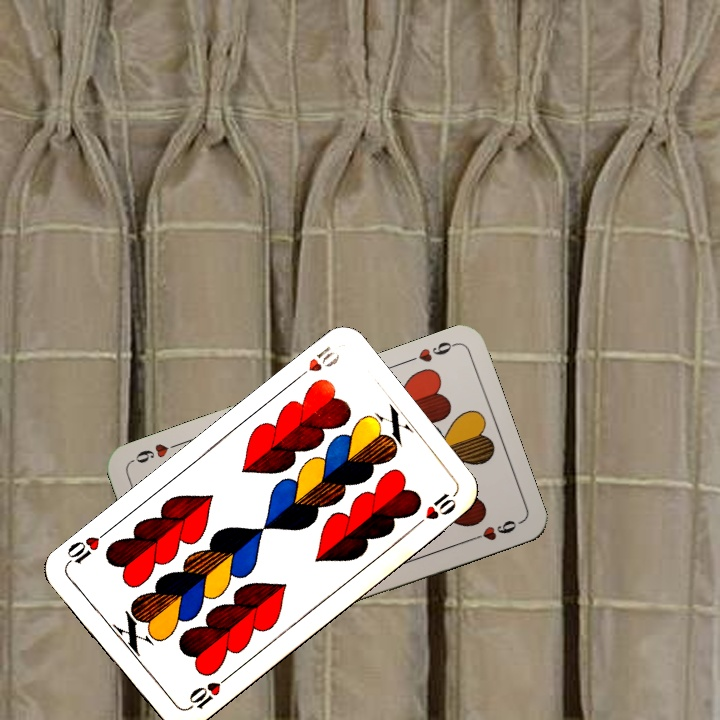H10: (290, 341, 343, 384), (182, 671, 232, 714)
H9: (401, 337, 459, 366)
